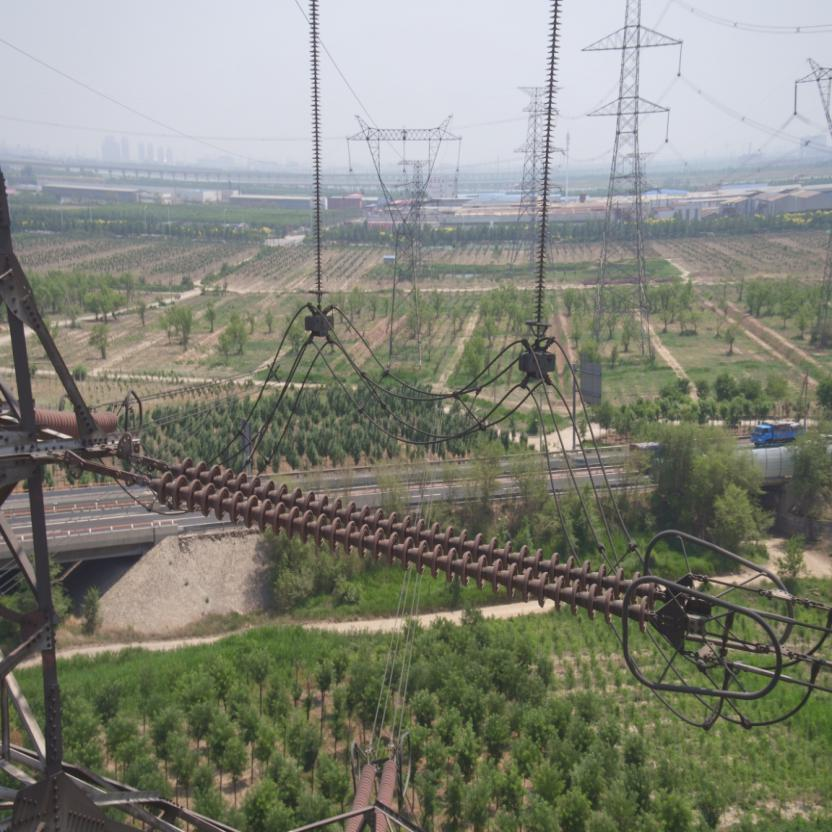insulator: (138, 452, 665, 634)
